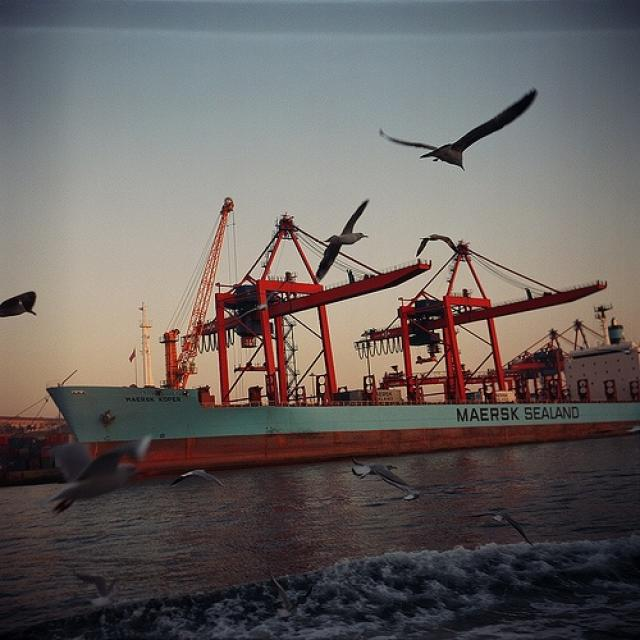bird: (380, 86, 539, 169), (50, 430, 154, 512), (316, 197, 371, 283), (471, 508, 530, 544), (269, 571, 317, 612), (349, 462, 408, 492), (76, 570, 119, 609), (169, 465, 224, 489), (413, 232, 457, 260)
boat: (44, 194, 638, 478)
